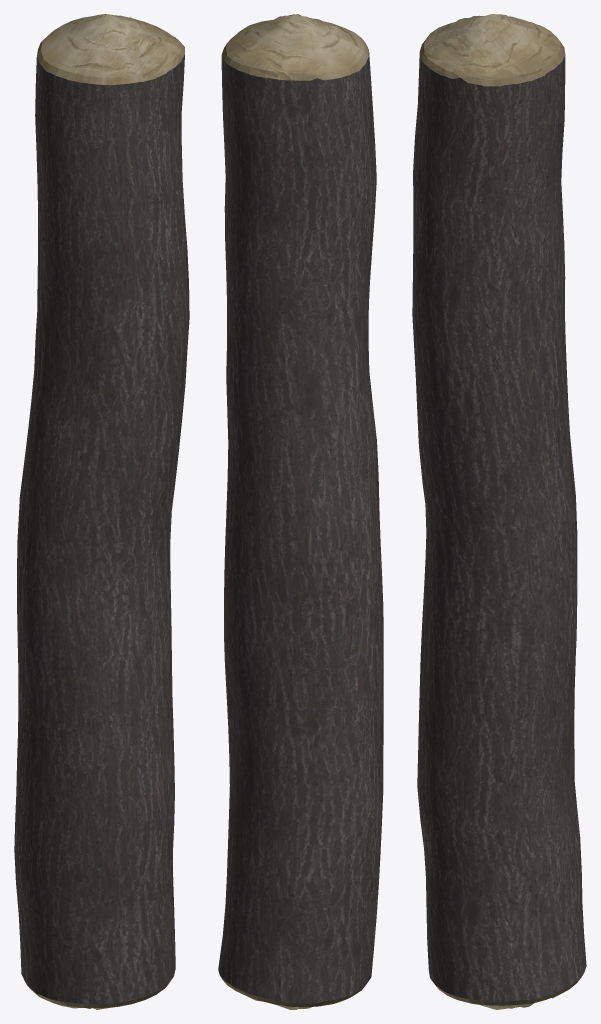
3 renders of one model, left to right at view 1: azimuth 30°, elevation 25°; view 2: azimuth 150°, elevation 25°; view 3: azimuth 270°, elevation 25°, orthographic.
Visible parts, largest first — view 1: SM_BM_Oak_Tree_01_half_top_LOD0; view 2: SM_BM_Oak_Tree_01_half_top_LOD0; view 3: SM_BM_Oak_Tree_01_half_top_LOD0.
Part boxes in pixels (left/top/right/bottom): SM_BM_Oak_Tree_01_half_top_LOD0: left=14, top=14, right=189, bottom=1009; SM_BM_Oak_Tree_01_half_top_LOD0: left=218, top=14, right=383, bottom=1009; SM_BM_Oak_Tree_01_half_top_LOD0: left=412, top=14, right=586, bottom=1009.
Bounding box in the file's own units: 0.7975 × 5.18 × 0.8216.
1 material, 1 textured.
